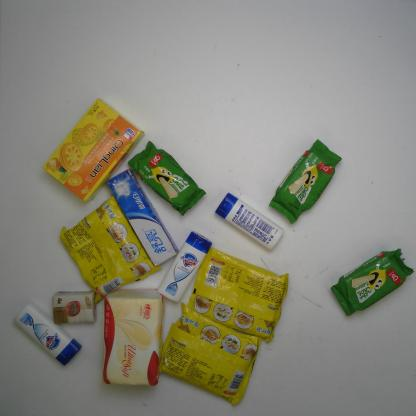Dessert: (41, 96, 146, 204), (268, 138, 343, 224), (127, 139, 208, 217), (330, 246, 415, 318)
Instant Noodles: (58, 195, 163, 305), (157, 299, 260, 408), (187, 246, 290, 344)
Personal Hygiene: (105, 168, 180, 267), (10, 301, 84, 369), (157, 229, 213, 304), (214, 191, 285, 250)
Tissue: (98, 287, 167, 389), (48, 289, 100, 327)
